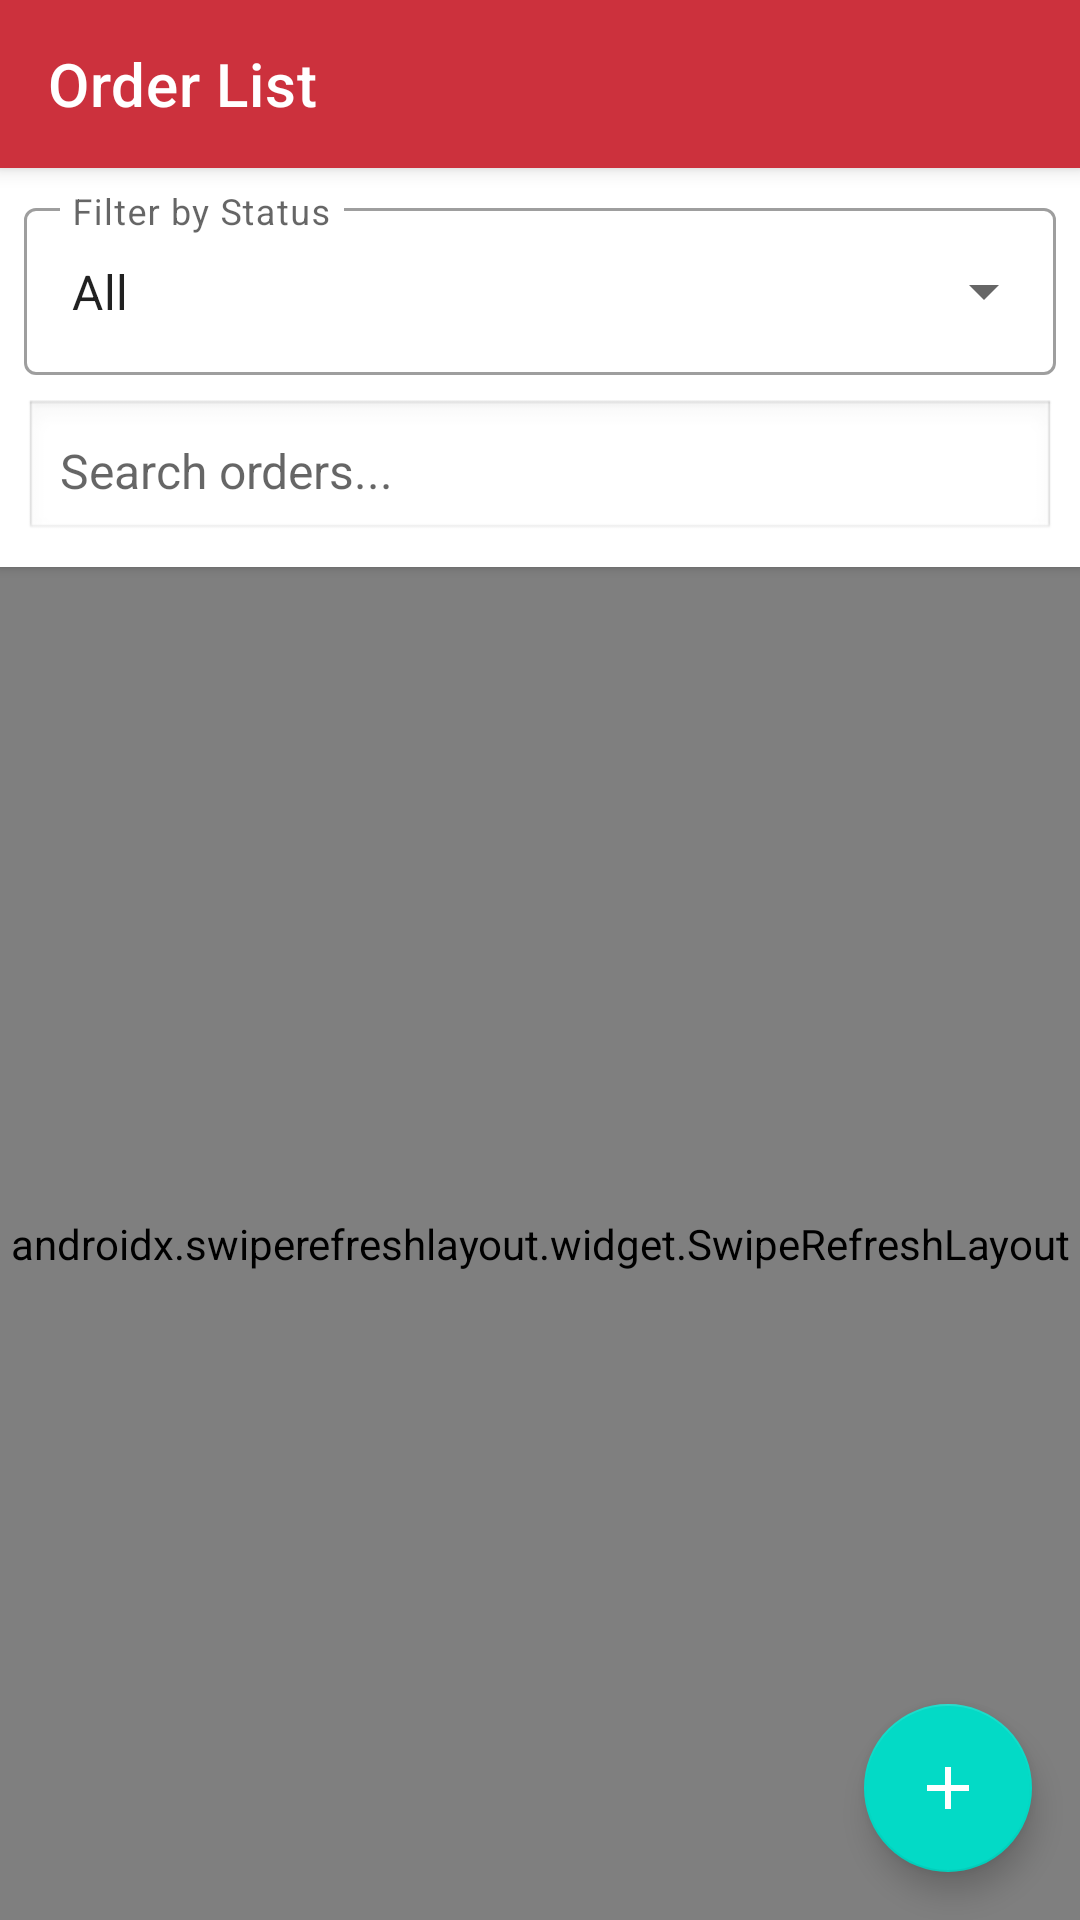

Icon bounding boxes for this 1080 x 1920 phone screenshot, format detection(x1, y1, x2, y2):
Add new order: detection(864, 1704, 1032, 1872)
